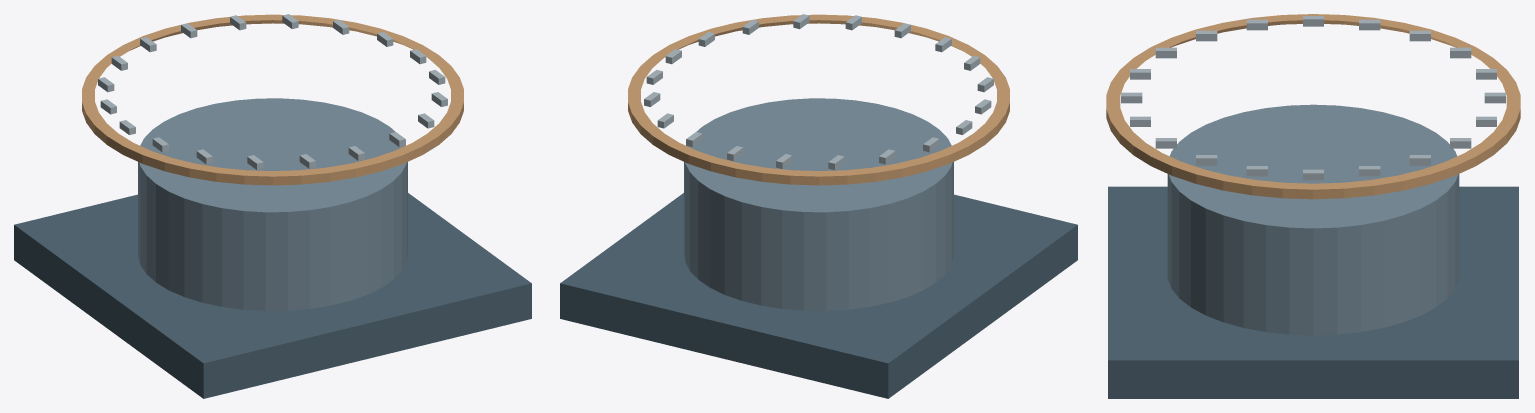
File: 23_L75_WaferTiltRotationStage.glb
3 renders of one model, left to right at view 1: azimuth 30°, elevation 25°; view 2: azimuth 150°, elevation 25°; view 3: azimuth 270°, elevation 25°, orthographic. The views are drawn at different scales.
Visible parts, largest first — view 1: WaferTiltRotationStage_Node_0000, WaferTiltRotationStage_Node_0001, WaferTiltRotationStage_Node_0002; view 2: WaferTiltRotationStage_Node_0000, WaferTiltRotationStage_Node_0001, WaferTiltRotationStage_Node_0002; view 3: WaferTiltRotationStage_Node_0000, WaferTiltRotationStage_Node_0001, WaferTiltRotationStage_Node_0002.
Boxes of the visible parts, x1,y1,x2,y2 form: WaferTiltRotationStage_Node_0000: (138,98,407,310); WaferTiltRotationStage_Node_0001: (14,193,531,398); WaferTiltRotationStage_Node_0002: (82,14,463,185); WaferTiltRotationStage_Node_0000: (684,98,953,310); WaferTiltRotationStage_Node_0001: (560,193,1077,398); WaferTiltRotationStage_Node_0002: (628,14,1009,185); WaferTiltRotationStage_Node_0000: (1167,104,1459,335); WaferTiltRotationStage_Node_0001: (1108,186,1518,398); WaferTiltRotationStage_Node_0002: (1106,14,1520,199).
Size of the model in its own units: 1.76 by 1.02 by 1.76.
